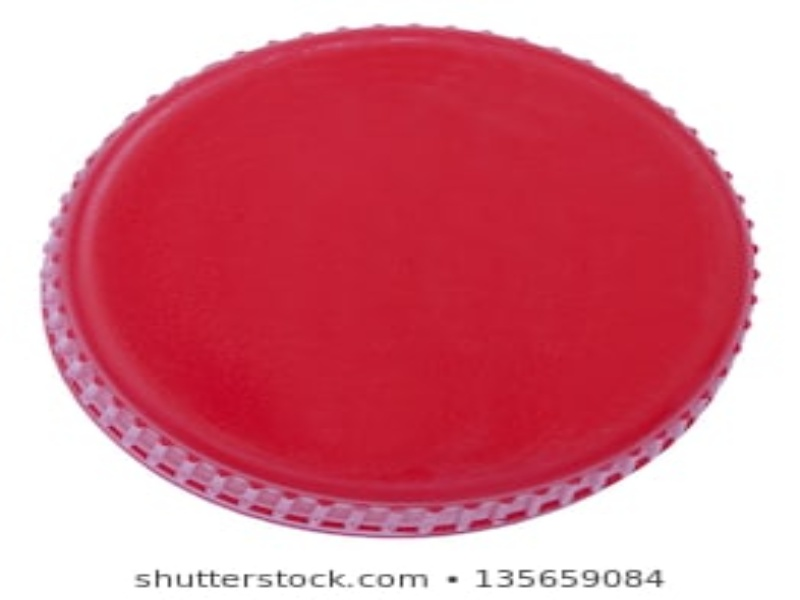bottle-cap: (35, 19, 764, 535)
